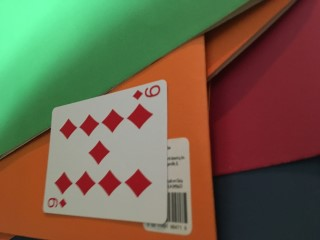NineOfDiamonds: (43, 80, 167, 224)
